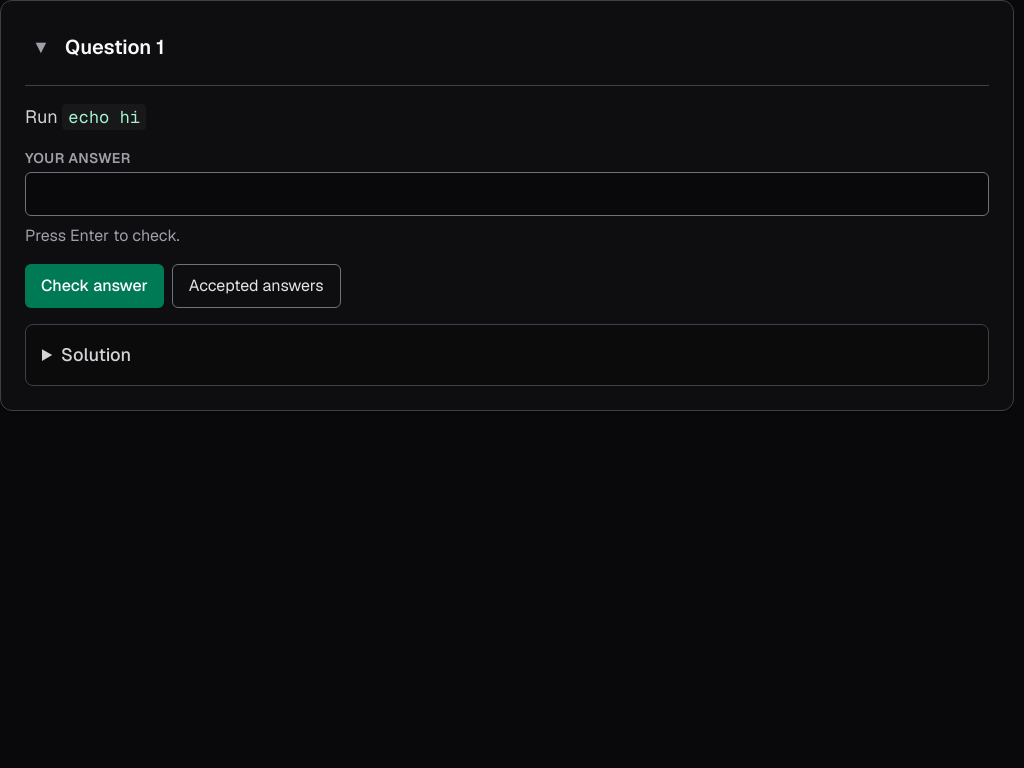
Scenario: QuestionBlock › shows all acceptedOutputs in the modal
Click the button "Accepted answers": {"x": 256, "y": 286} [172, 264, 341, 308]
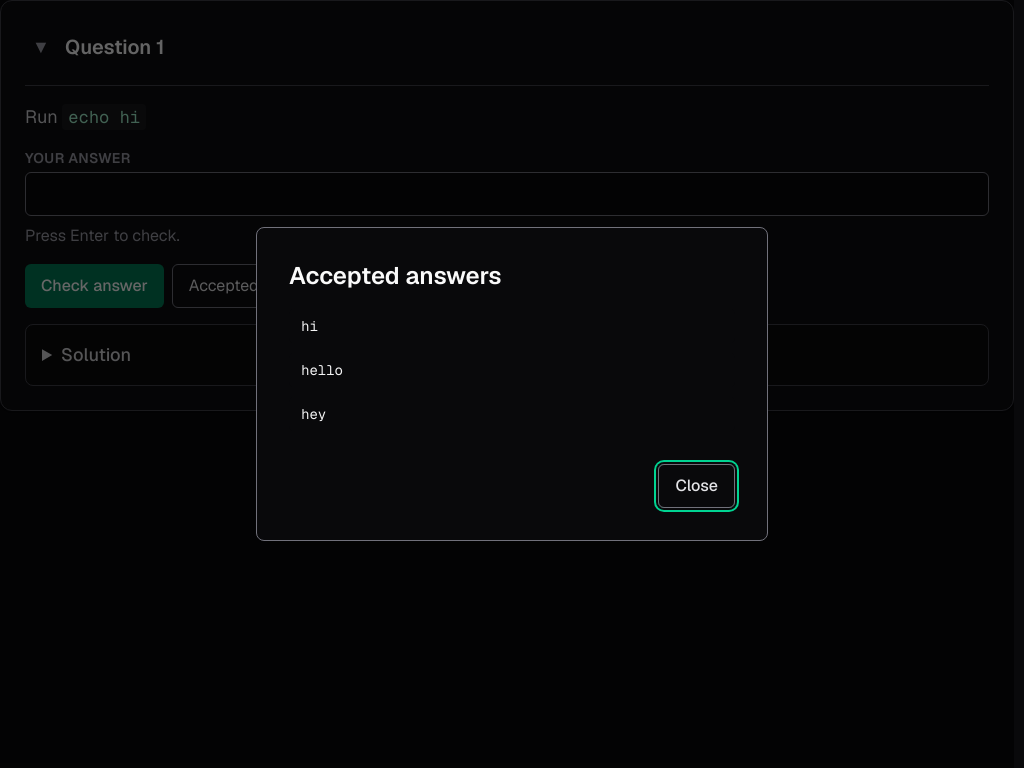
Now the text "hi" is shown, box [289, 308, 735, 344]
Now the text "hello" is shown, box [289, 352, 735, 388]
Now the text "hey" is shown, box [289, 396, 735, 432]
